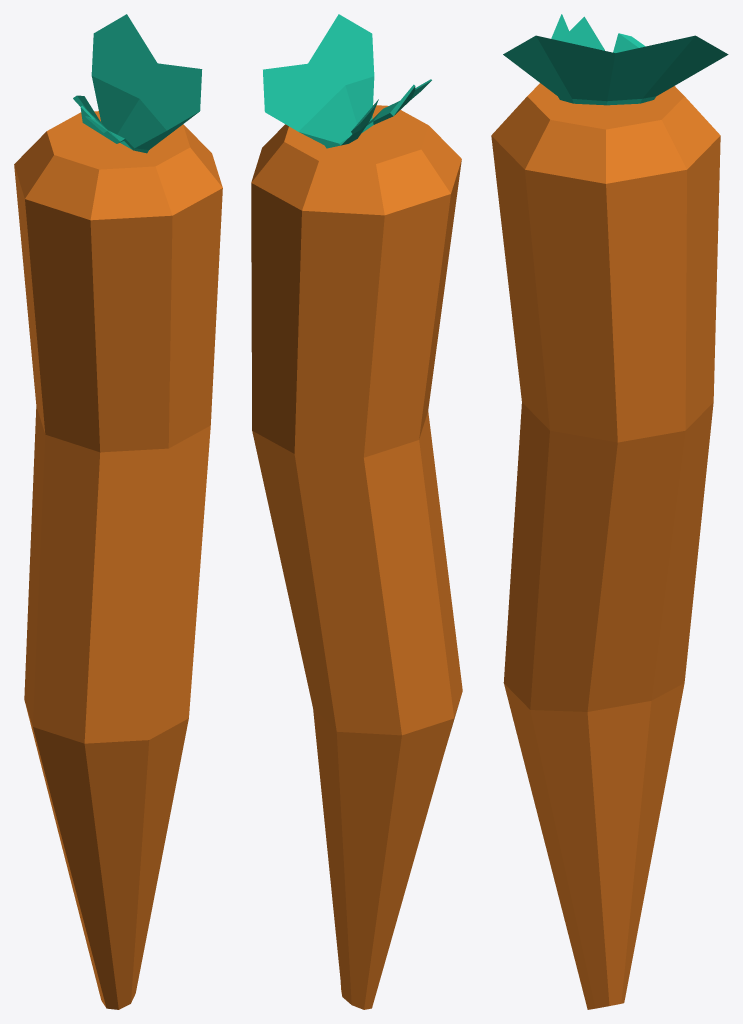
Rendered from carrot.fbx.
The picture shows the model from 3 angles, left to right: view 1: azimuth 30°, elevation 25°; view 2: azimuth 150°, elevation 25°; view 3: azimuth 270°, elevation 25°; orthographic projection. The views are drawn at different scales.
Visible parts, largest first — view 1: Cylinder; view 2: Cylinder; view 3: Cylinder.
Boxes of the visible parts, box(x1,y1,x2,y2) form: Cylinder: box(14, 14, 222, 1009); Cylinder: box(251, 14, 462, 1009); Cylinder: box(491, 14, 728, 1009).
Size of the model in its own units: 68.16 by 329 by 70.55.
